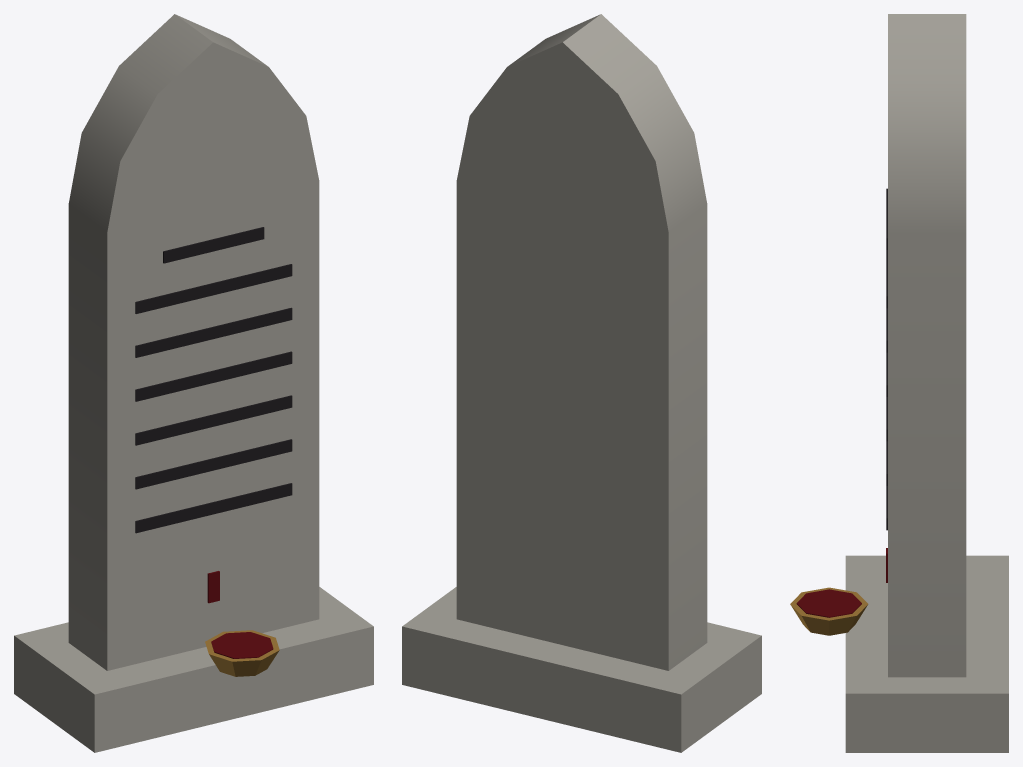
The model's file is Stele.fbx.
3 views of the same model, side by side, from view 1: azimuth 30°, elevation 25°; view 2: azimuth 150°, elevation 25°; view 3: azimuth 270°, elevation 25° (orthographic).
Visible parts, largest first — view 1: Stele; view 2: Stele; view 3: Stele.
Boxes of the visible parts, bbox=[...] form: Stele: bbox=[14, 14, 373, 752]; Stele: bbox=[402, 14, 761, 752]; Stele: bbox=[790, 14, 1008, 752].
Bounding box in the file's own units: 1 × 2.26 × 0.67.
